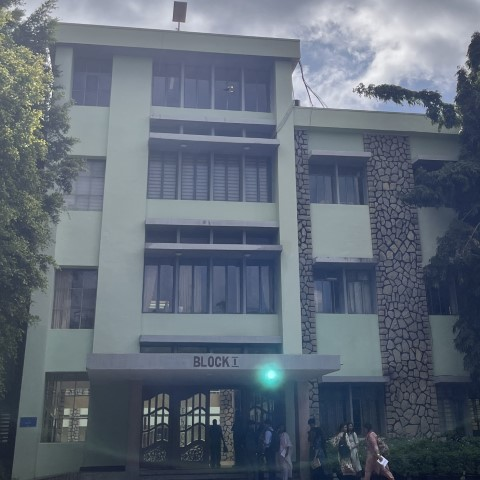Block 1: (48, 14, 450, 480)
